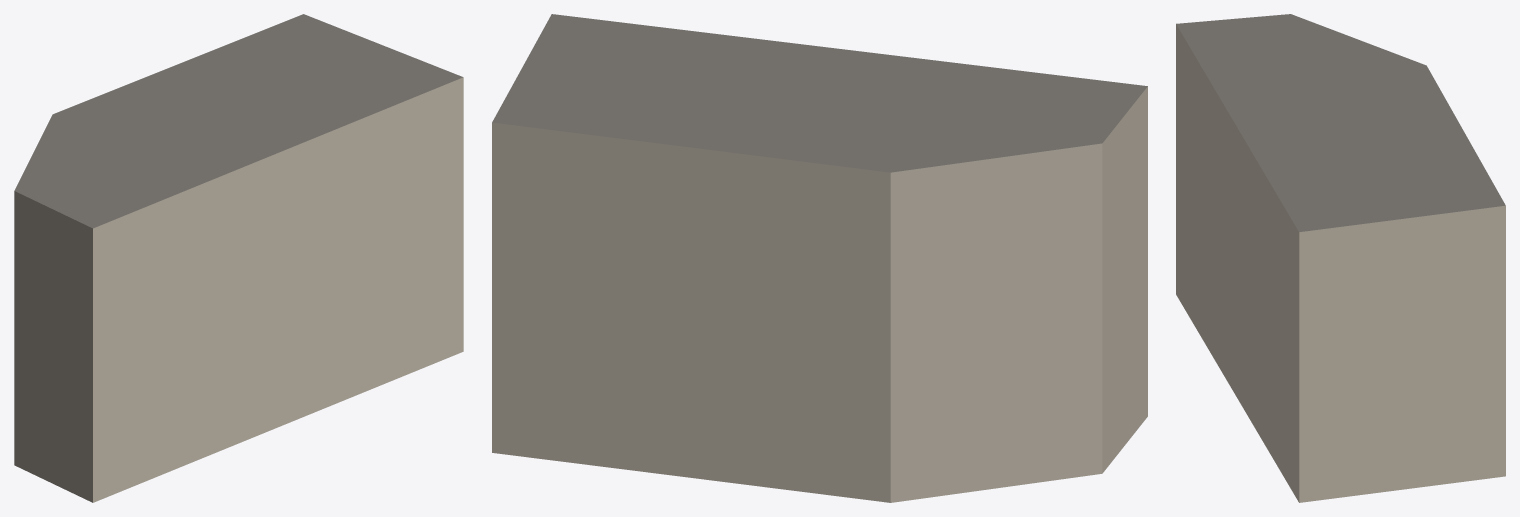
3 renders of one model, left to right at view 1: azimuth 30°, elevation 25°; view 2: azimuth 150°, elevation 25°; view 3: azimuth 270°, elevation 25°, orthographic. The views are drawn at different scales.
Visible parts, largest first — view 1: HP-w505646899; view 2: HP-w505646899; view 3: HP-w505646899.
Part boxes in pixels (x1,y1,x2,y2): HP-w505646899: [14, 14, 463, 502]; HP-w505646899: [492, 14, 1147, 502]; HP-w505646899: [1176, 14, 1505, 502].
Size of the model in its own units: 20.74 by 12 by 13.25.
